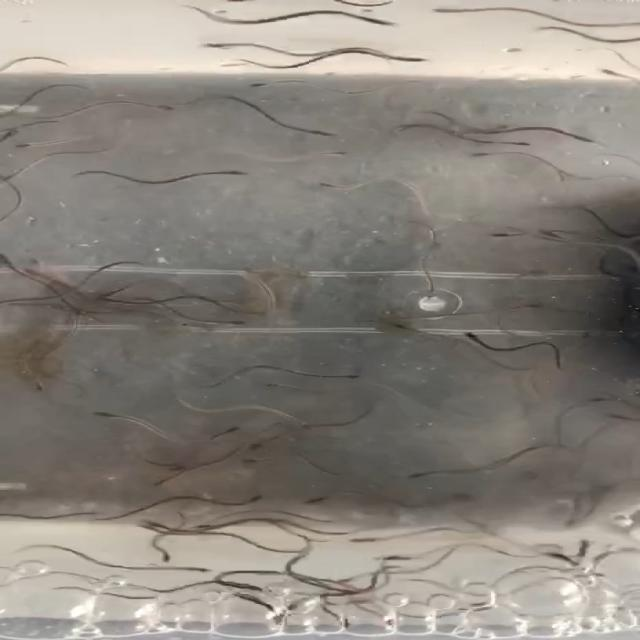active_glass_eel: (386, 45, 442, 78), (201, 484, 268, 506), (368, 314, 428, 336), (74, 400, 130, 423), (298, 484, 345, 511), (291, 120, 342, 144), (303, 142, 364, 161), (454, 324, 491, 354), (0, 247, 41, 274), (197, 36, 237, 62), (303, 172, 348, 195), (137, 468, 188, 488), (14, 266, 60, 288), (393, 465, 438, 487), (202, 419, 250, 439), (457, 146, 512, 163), (230, 77, 284, 94), (480, 221, 518, 245), (504, 293, 541, 317), (130, 515, 182, 532), (323, 366, 365, 387), (226, 452, 266, 474), (213, 314, 256, 334), (570, 129, 607, 152), (361, 12, 403, 32), (172, 557, 212, 578), (132, 544, 176, 563), (252, 376, 301, 393), (10, 137, 56, 155), (255, 599, 293, 618), (499, 134, 539, 152), (148, 99, 182, 120), (232, 580, 264, 597), (221, 161, 249, 180)
